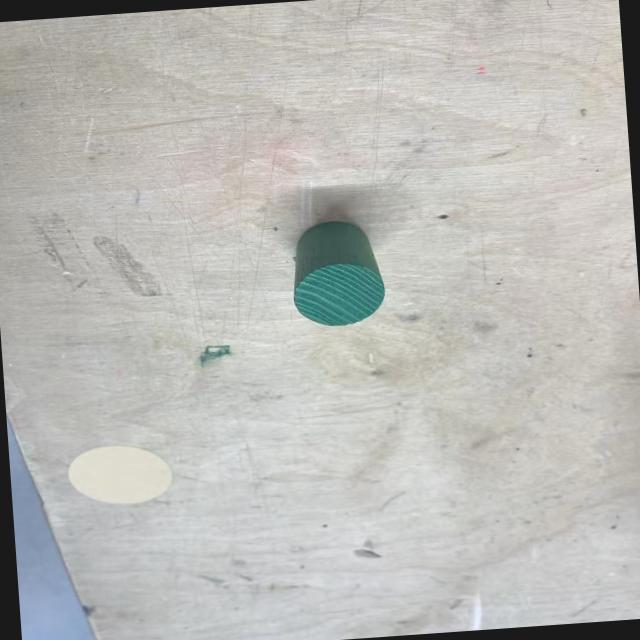green_cylinder: (286, 214, 388, 330)
